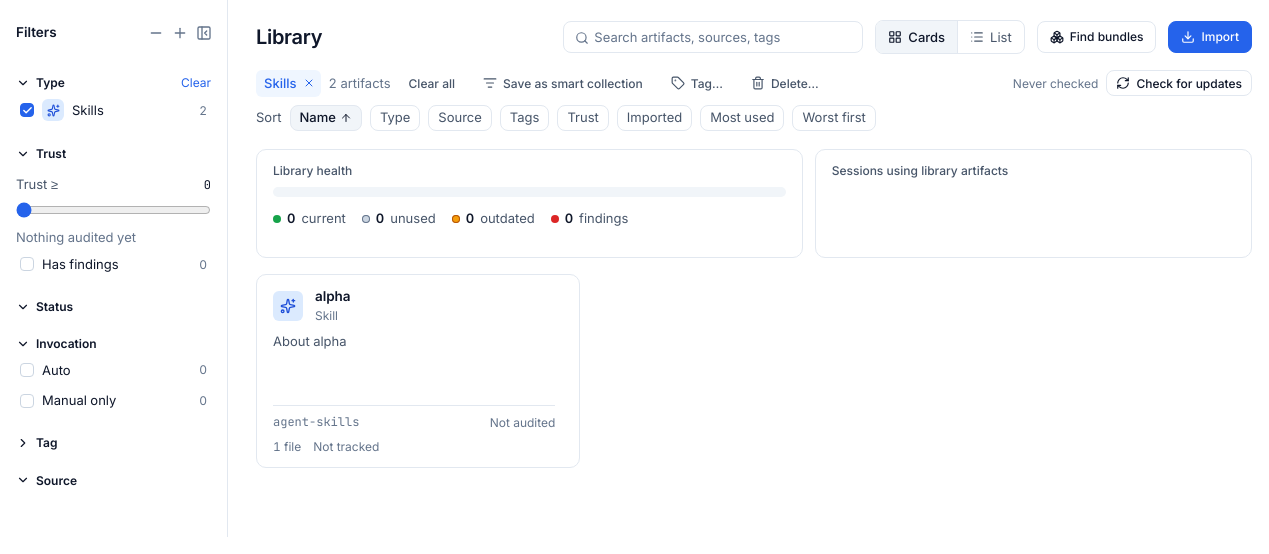
it: filter column collapse › works when storage throws
The width and height of the screenshot is (1269, 554).
Click the button named "Hide filters" at (204, 33), box [191, 20, 217, 46]
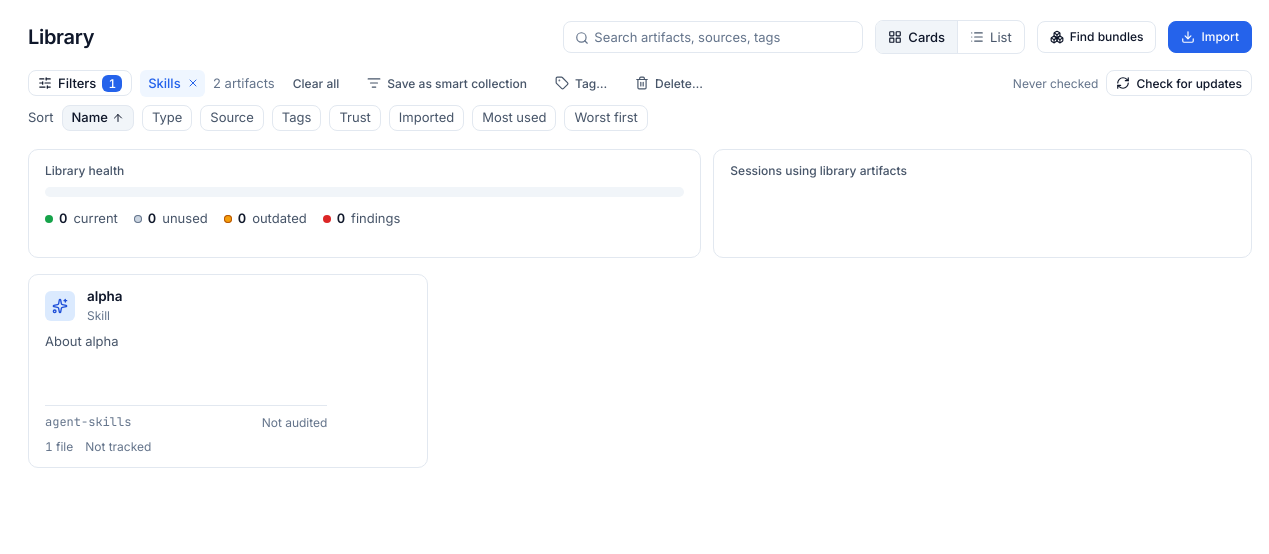
Now the button "Filters 1" is shown, box [28, 70, 132, 96]
